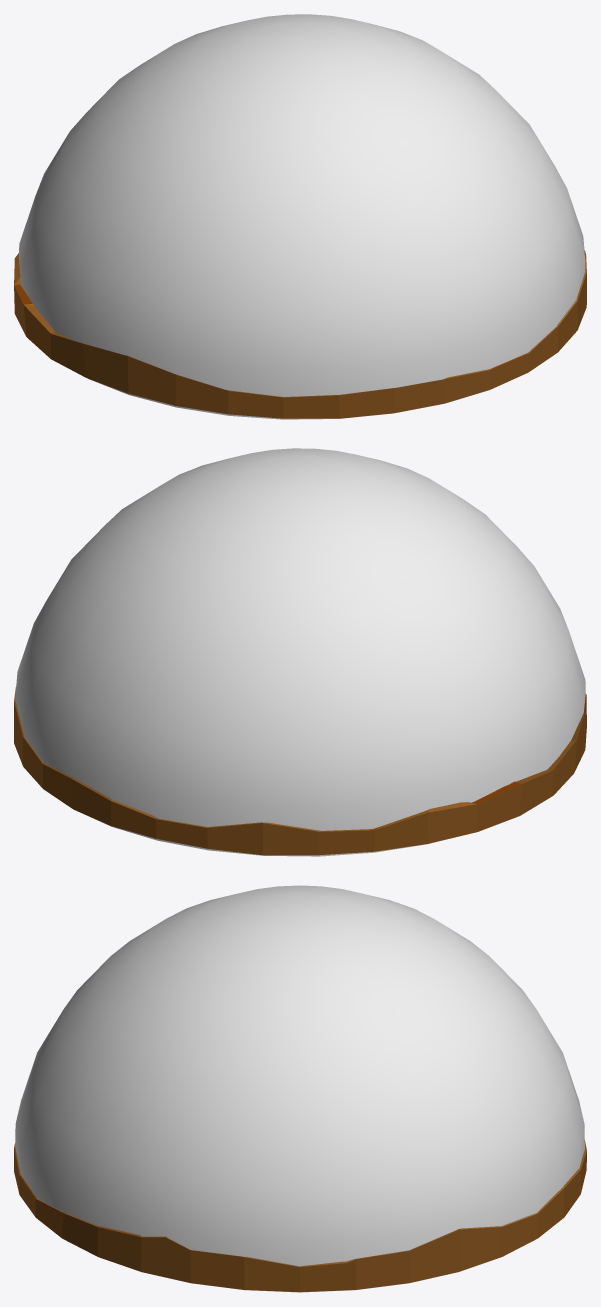
The model's file is gass_colony_cave.fbx.
The picture shows the model from 3 angles, top to bottom: view 1: azimuth 30°, elevation 25°; view 2: azimuth 150°, elevation 25°; view 3: azimuth 270°, elevation 25°; orthographic projection.
Visible parts, largest first — view 1: Sphere, Cylinder.070; view 2: Sphere, Cylinder.070; view 3: Sphere, Cylinder.070.
Boxes of the visible parts, x1,y1,x2,y2 form: Sphere: (19,14,585,419); Cylinder.070: (14,250,586,418); Sphere: (15,448,585,856); Cylinder.070: (14,687,586,855); Sphere: (15,885,584,1292); Cylinder.070: (14,1140,586,1292).
Size of the model in its own units: 5565 by 2762 by 5525.
